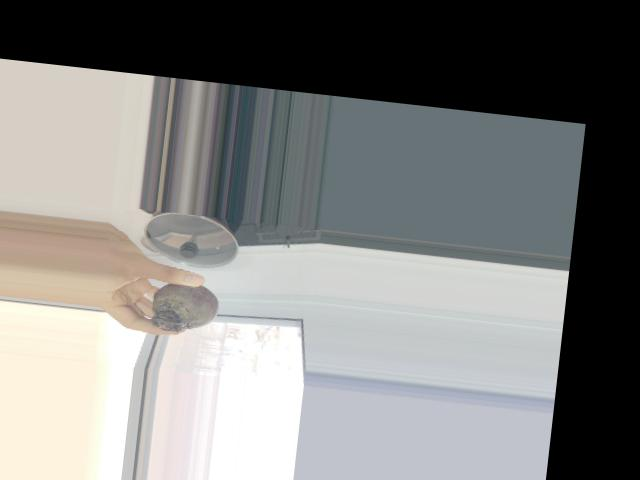beet: (131, 277, 221, 336)
